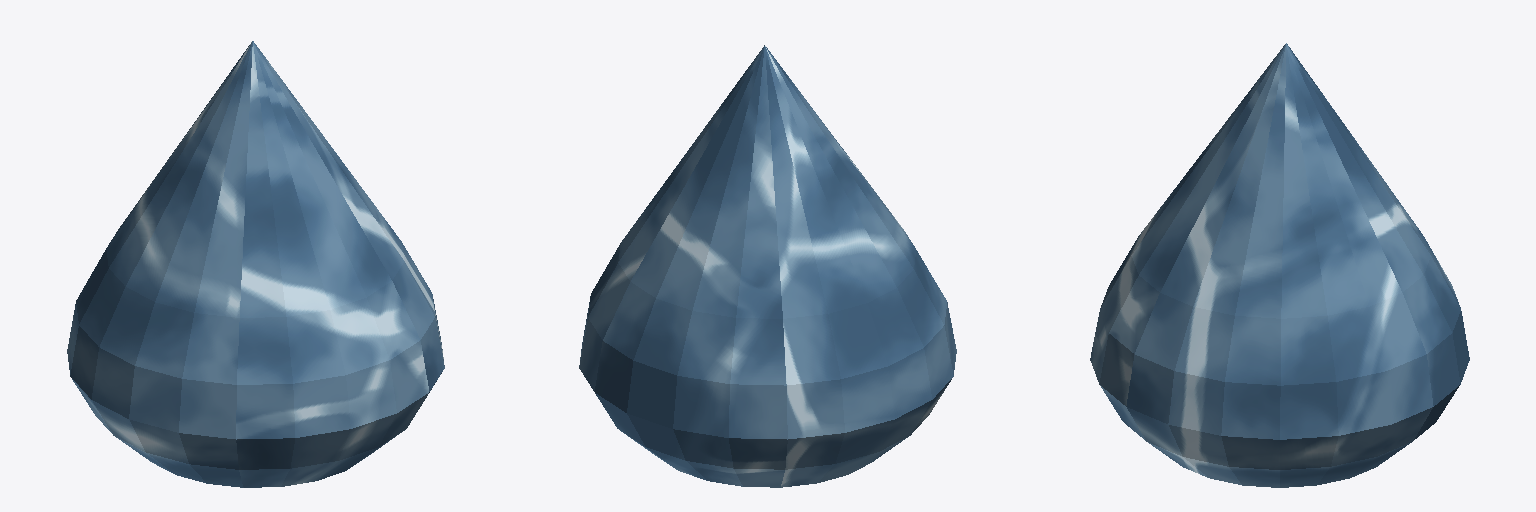
The picture shows the model from 3 angles: view 1: azimuth 30°, elevation 25°; view 2: azimuth 150°, elevation 25°; view 3: azimuth 270°, elevation 25°; orthographic projection.
Visible parts, largest first — view 1: pSphere6_lambert1_0; view 2: pSphere6_lambert1_0; view 3: pSphere6_lambert1_0.
Part boxes in pixels (left/top/right/bottom): pSphere6_lambert1_0: left=67, top=41, right=444, bottom=487; pSphere6_lambert1_0: left=579, top=45, right=956, bottom=487; pSphere6_lambert1_0: left=1090, top=43, right=1469, bottom=487.
Bounding box in the file's own units: 33.94 × 42.08 × 33.94.
1 materials, 1 textured.